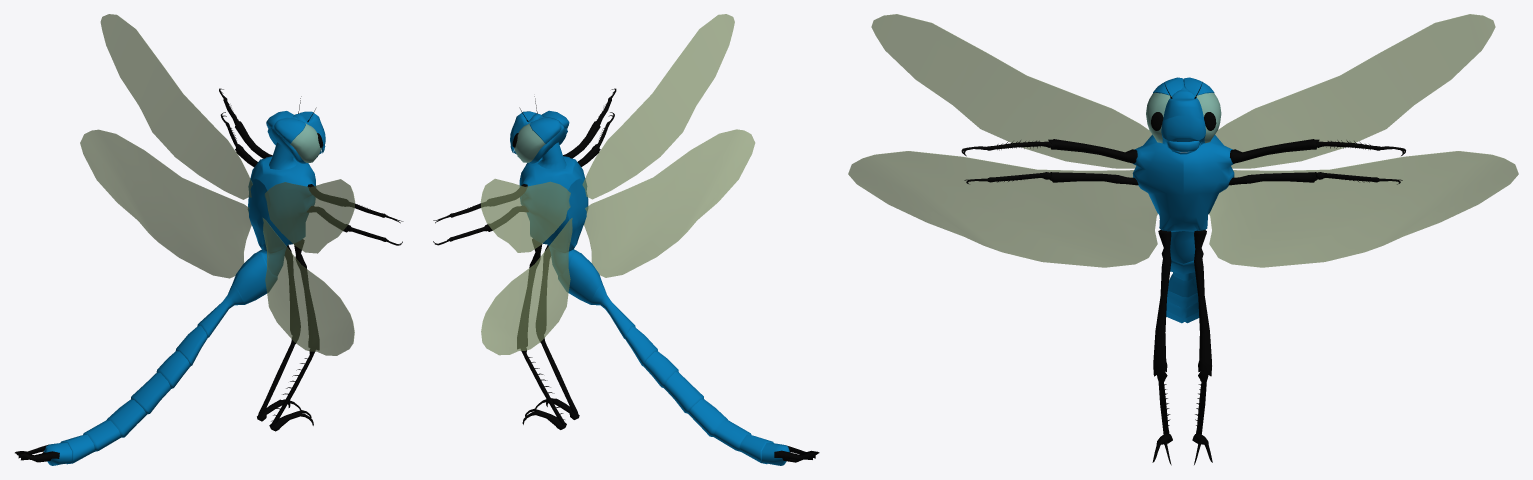
File: PixDrag.fbx
3 views of the same model, side by side, from view 1: azimuth 30°, elevation 25°; view 2: azimuth 150°, elevation 25°; view 3: azimuth 270°, elevation 25° (orthographic). The views are drawn at different scales.
Visible parts, largest first — view 1: Abdomen, BackL, FrontL, BackR, FrontR, Face_Eyes, BackFore1 (×2), LegR, LegL, R_Lid, Neck; view 2: Abdomen, BackR, FrontR, BackL, FrontL, Face_Eyes, BackFore1 (×2), LegL, LegR, R_Lid1, Neck; view 3: BackR, BackL, FrontR, FrontL, Abdomen, Face_Eyes, LegR, LegL, TopArmR, TopArmL, MiddleR, MiddleL.
Part boxes in pixels (x1,y1,x2,y2): Abdomen: [15, 156, 315, 465]; BackL: [80, 129, 251, 278]; FrontL: [100, 14, 252, 199]; BackR: [262, 218, 354, 355]; FrontR: [265, 179, 355, 253]; Face_Eyes: [267, 111, 325, 163]; BackFore1 (×2): [258, 334, 315, 426]; LegR: [294, 239, 319, 349]; LegL: [285, 245, 300, 337]; R_Lid: [274, 117, 305, 143]; Neck: [269, 142, 296, 169]; Abdomen: [519, 156, 819, 465]; BackR: [584, 129, 755, 277]; FrontR: [582, 14, 734, 199]; BackL: [481, 218, 572, 355]; FrontL: [480, 178, 570, 252]; Face_Eyes: [510, 111, 567, 163]; BackFore1 (×2): [521, 333, 578, 425]; LegL: [517, 239, 542, 348]; LegR: [536, 245, 550, 336]; R_Lid1: [529, 117, 561, 143]; Neck: [537, 142, 566, 169]; BackR: [848, 151, 1157, 267]; BackL: [1209, 151, 1518, 267]; FrontR: [871, 14, 1151, 168]; FrontL: [1215, 14, 1495, 168]; Abdomen: [1132, 134, 1234, 323]; Face_Eyes: [1146, 82, 1221, 154]; LegR: [1153, 229, 1171, 376]; LegL: [1194, 230, 1211, 376]; TopArmR: [1048, 139, 1137, 163]; TopArmL: [1230, 139, 1319, 163]; MiddleR: [1049, 172, 1138, 185]; MiddleL: [1228, 172, 1317, 185].
Size of the model in its own units: 5.95 by 6.19 by 9.2.
